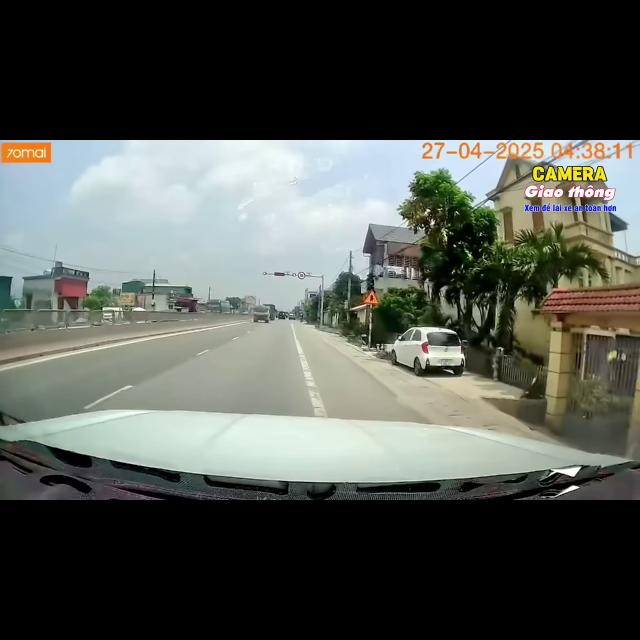car: (391, 327, 465, 375), (253, 306, 270, 322), (278, 312, 287, 319), (289, 313, 295, 319), (241, 312, 248, 314)
